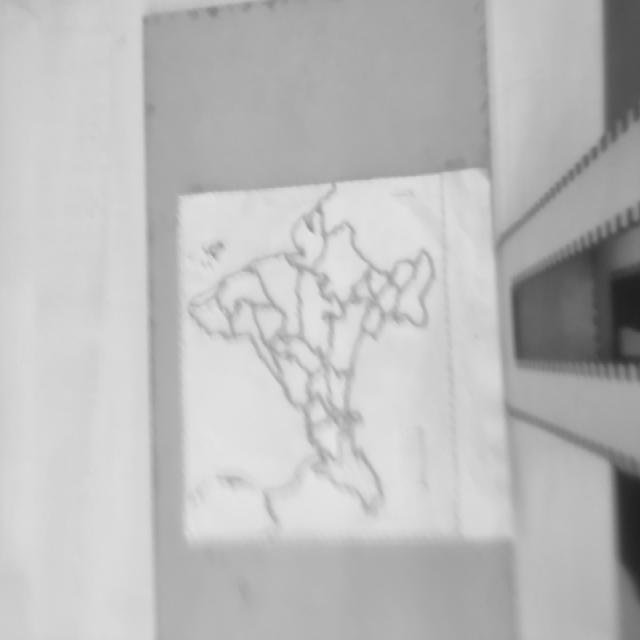map: (168, 173, 458, 549)
